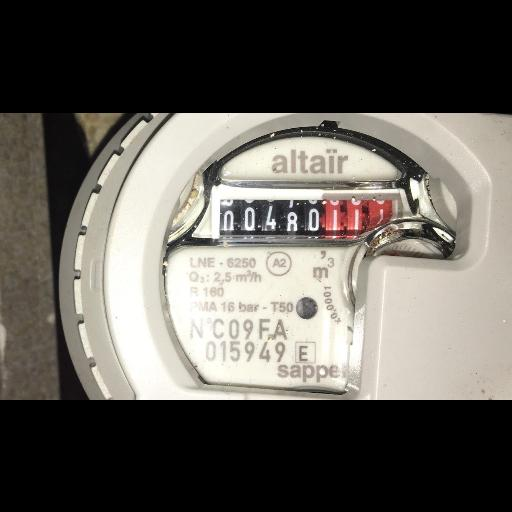0: (222, 199, 237, 239), (243, 200, 258, 239), (307, 199, 322, 238)
1: (350, 198, 364, 238), (329, 199, 342, 239), (375, 198, 388, 226)
4: (264, 199, 279, 238)
8: (284, 199, 300, 238)
border_water_meter_number: (219, 199, 393, 240)
